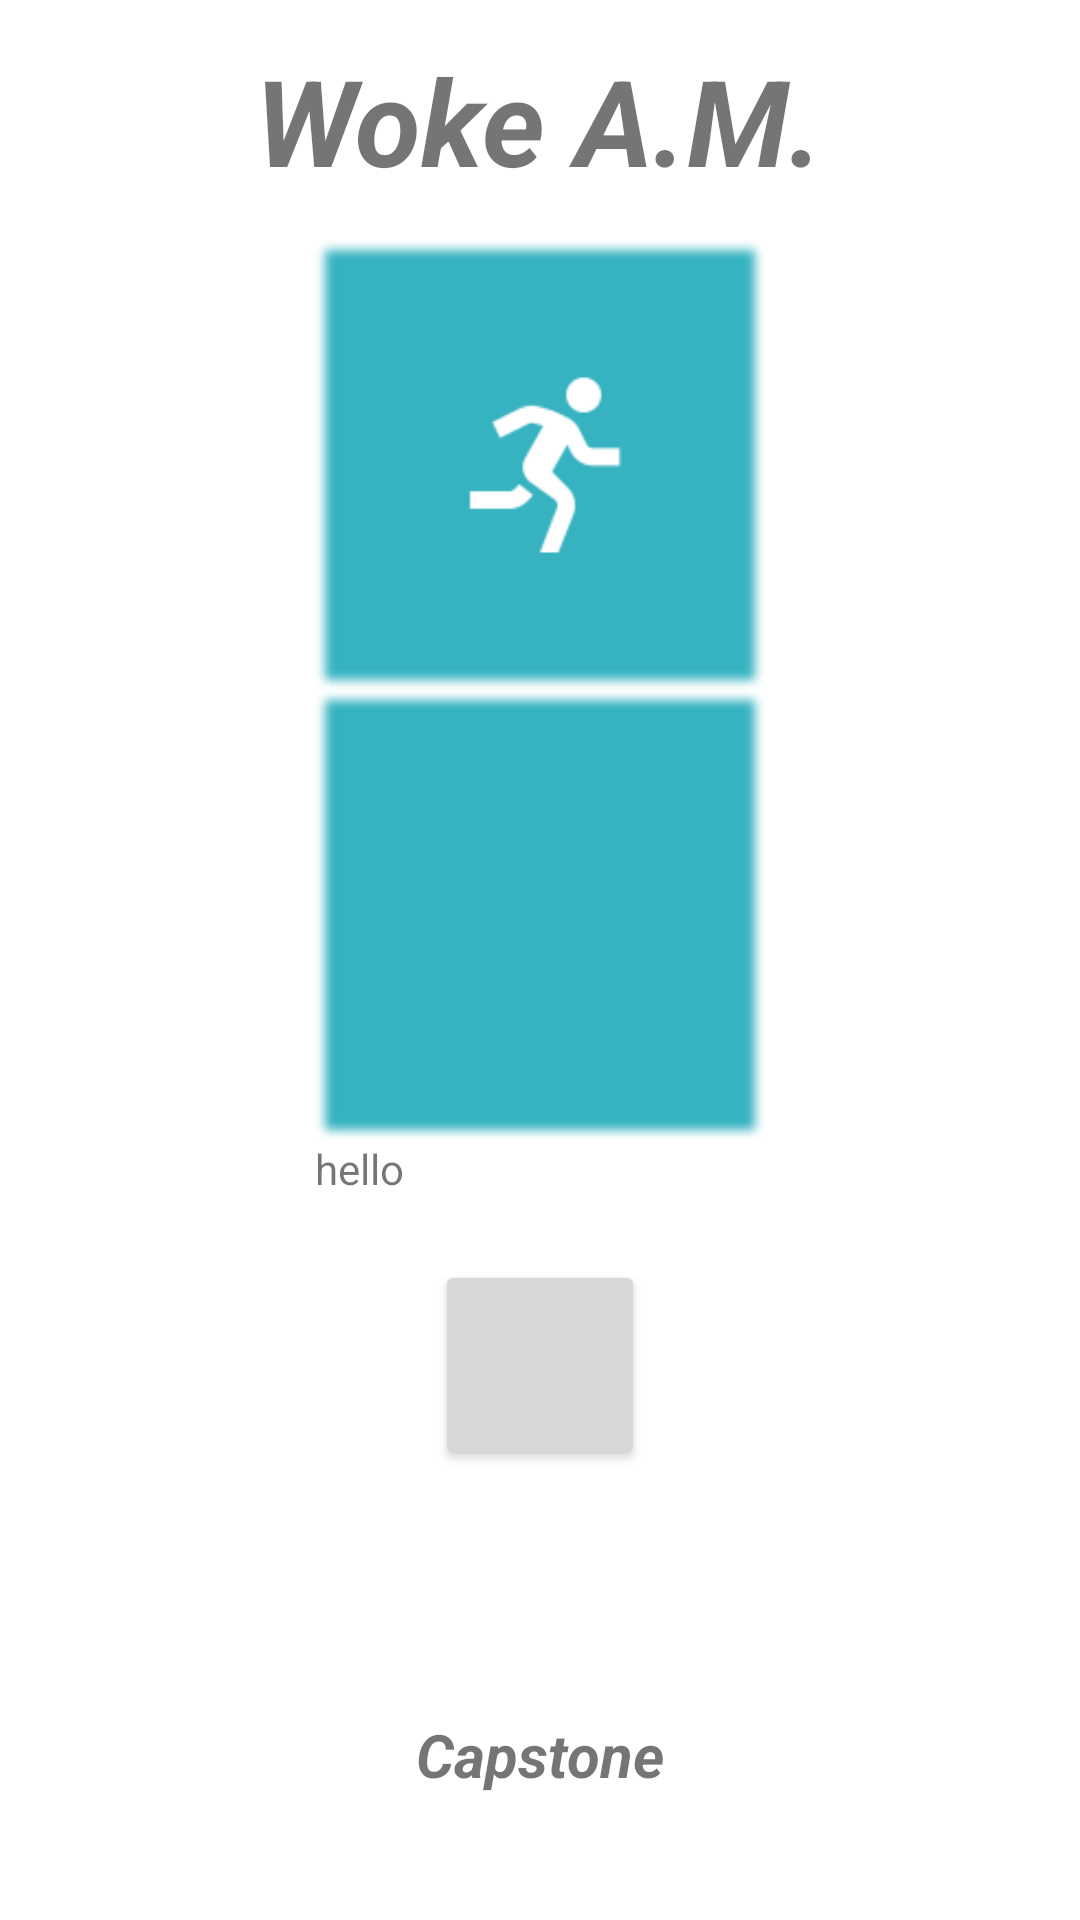

Where to tap for icons on this 1080*1920 app screen, as point (x, y):
exercise: point (545, 465)
